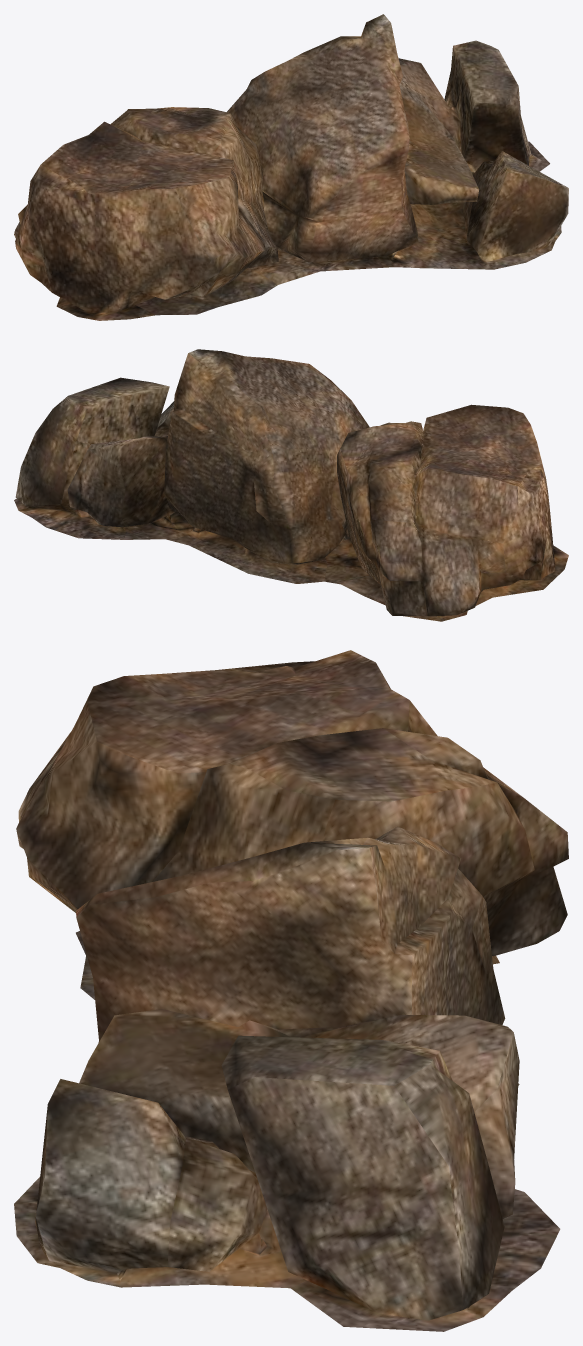
File: namaqualand_boulder_02.glb
3 renders of one model, top to bottom at view 1: azimuth 30°, elevation 25°; view 2: azimuth 150°, elevation 25°; view 3: azimuth 270°, elevation 25°, orthographic. The views are drawn at different scales.
Parts seen in each view (by area): view 1: boulder_02; view 2: boulder_02; view 3: boulder_02.
Part boxes in pixels (x1,y1,x2,y2): boulder_02: [14, 14, 568, 320]; boulder_02: [14, 349, 568, 621]; boulder_02: [14, 650, 568, 1331].
Size of the model in its own units: 2.51 by 0.8562 by 1.23.
Materials: 1 (1 with a texture image).
